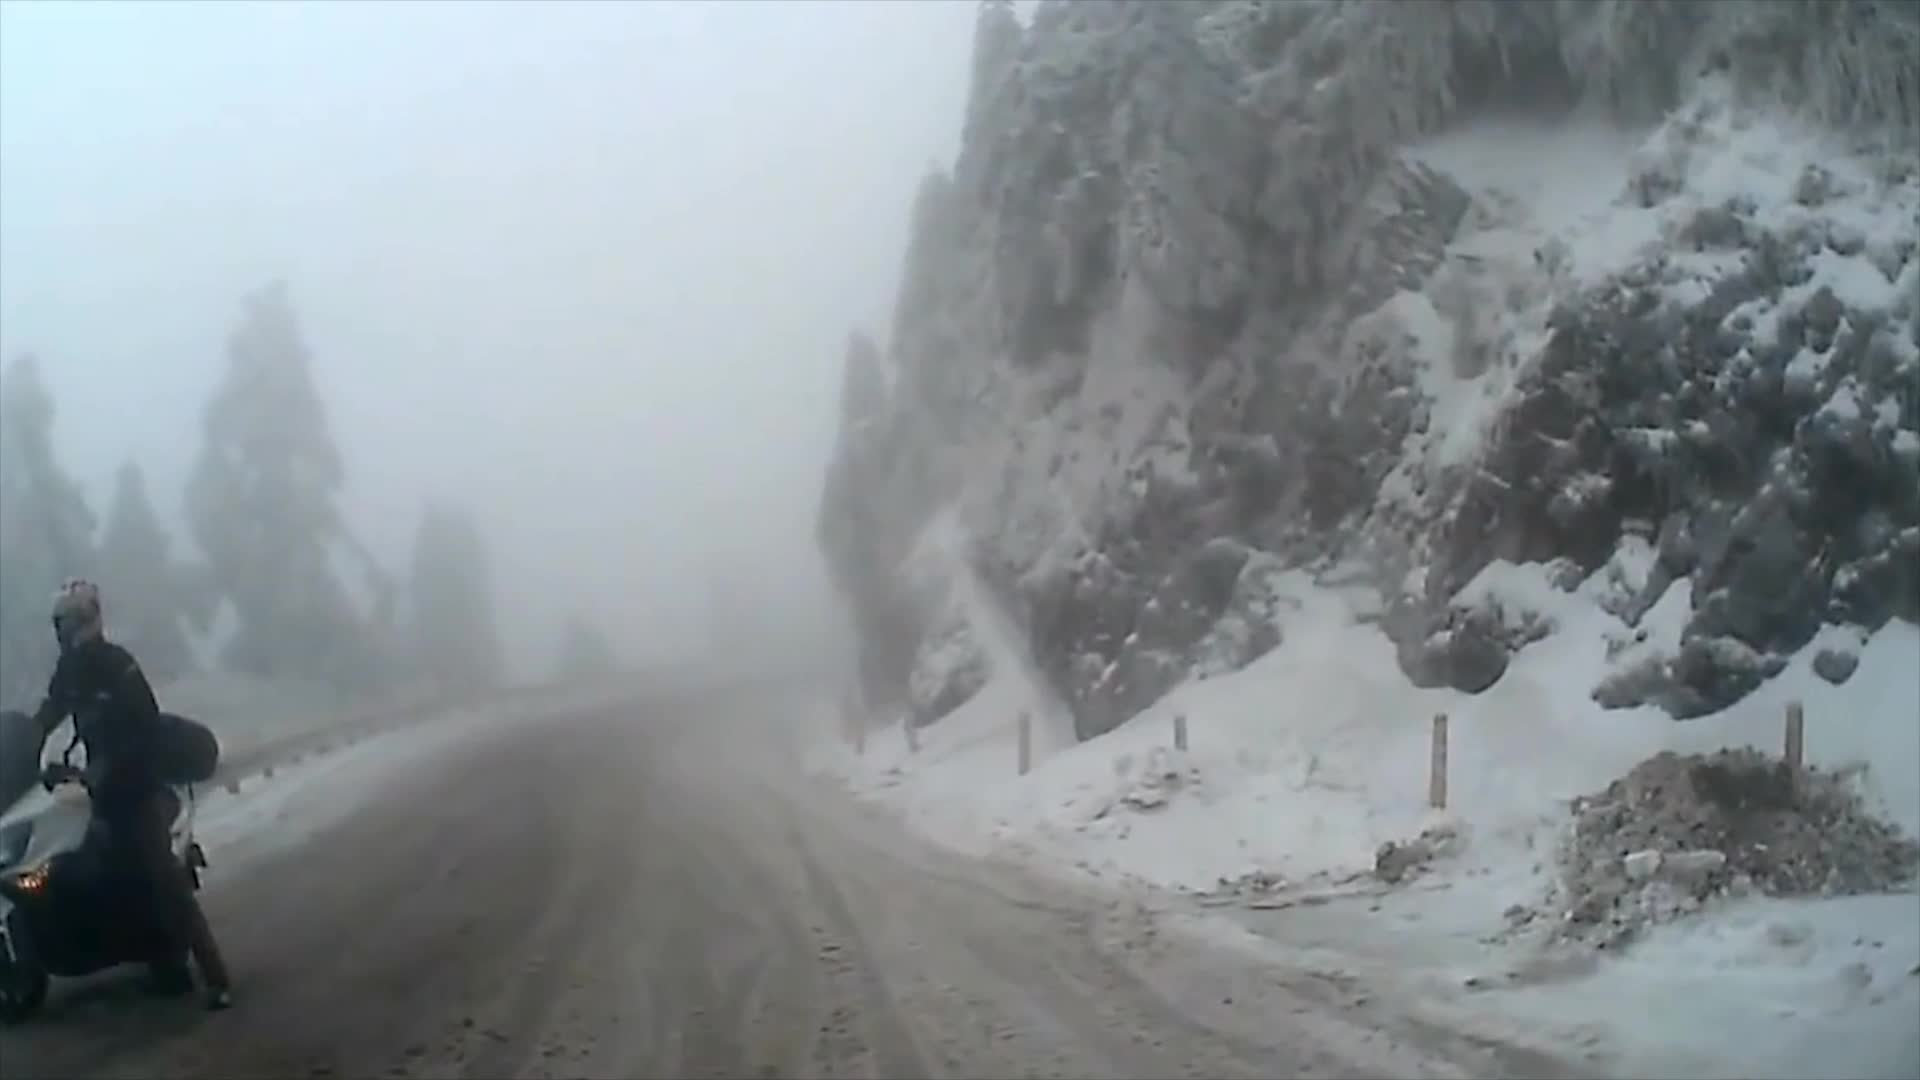pedestrian: (16, 578, 232, 1004)
